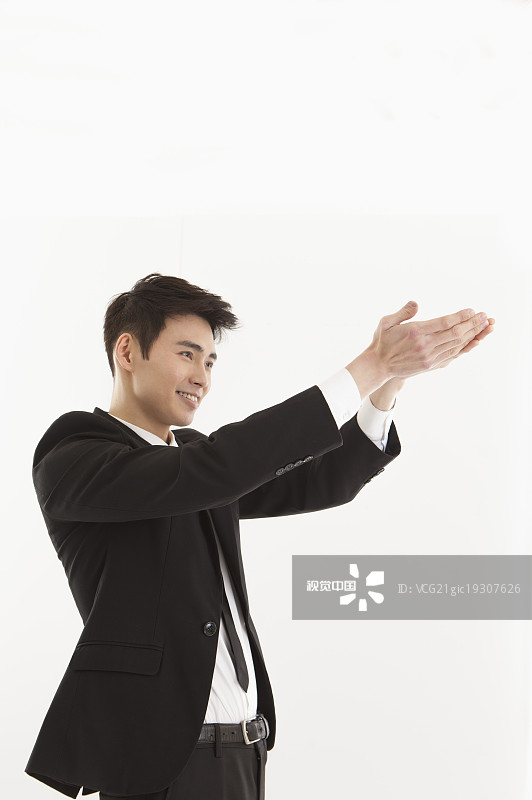no-phone: (361, 287, 493, 411)
